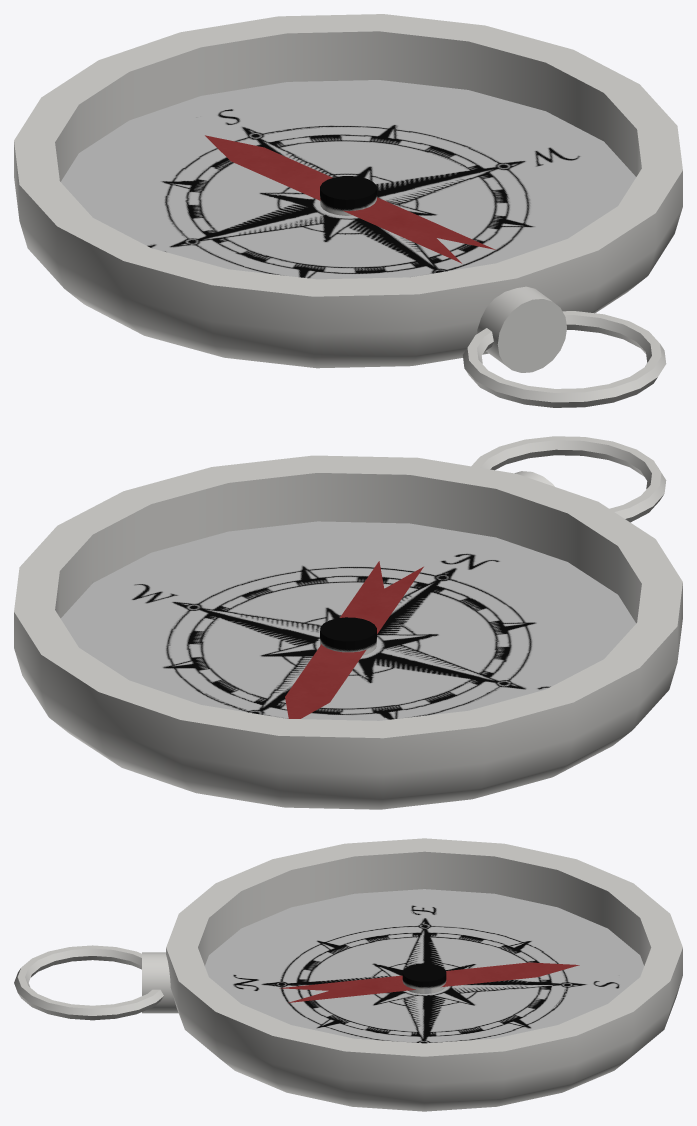
The model's file is busulalegal2.fbx.
The picture shows the model from 3 angles, top to bottom: view 1: azimuth 30°, elevation 25°; view 2: azimuth 150°, elevation 25°; view 3: azimuth 270°, elevation 25°; orthographic projection. The views are drawn at different scales.
Parts seen in each view (by area): view 1: Cylinder, Plane; view 2: Cylinder, Plane; view 3: Cylinder, Plane.
Boxes of the visible parts, bbox=[...] form: Cylinder: bbox=[14, 14, 682, 407]; Plane: bbox=[205, 135, 495, 263]; Cylinder: bbox=[14, 436, 682, 809]; Plane: bbox=[285, 561, 423, 718]; Cylinder: bbox=[14, 838, 682, 1111]; Plane: bbox=[279, 962, 579, 1002].
Bounding box in the file's own units: 200 × 30.18 × 259.
